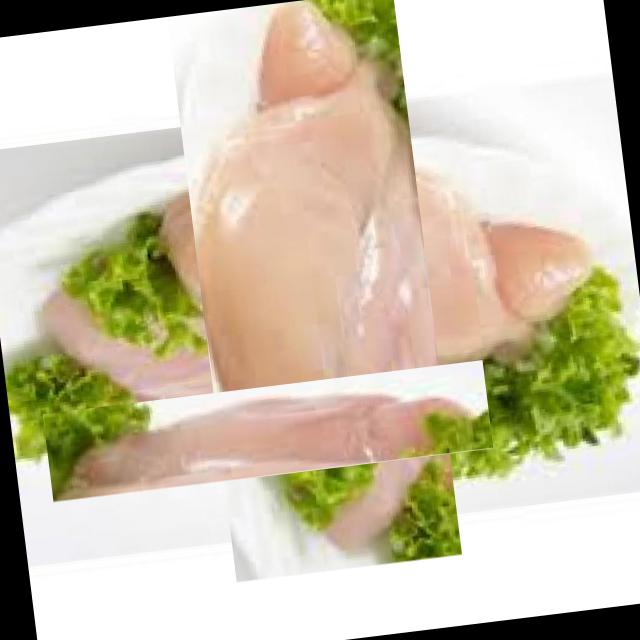chicken: (88, 53, 540, 505), (41, 360, 493, 502)
